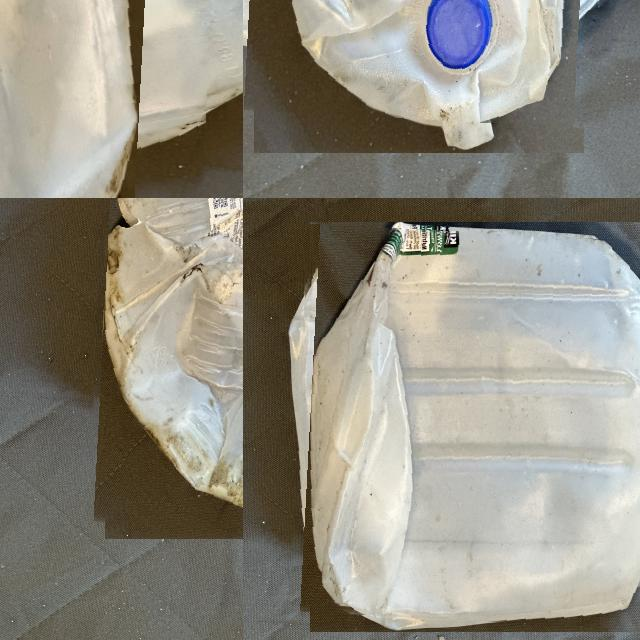milk-jug: (292, 228, 640, 626), (91, 198, 243, 538), (243, 0, 623, 124), (0, 0, 213, 198)
